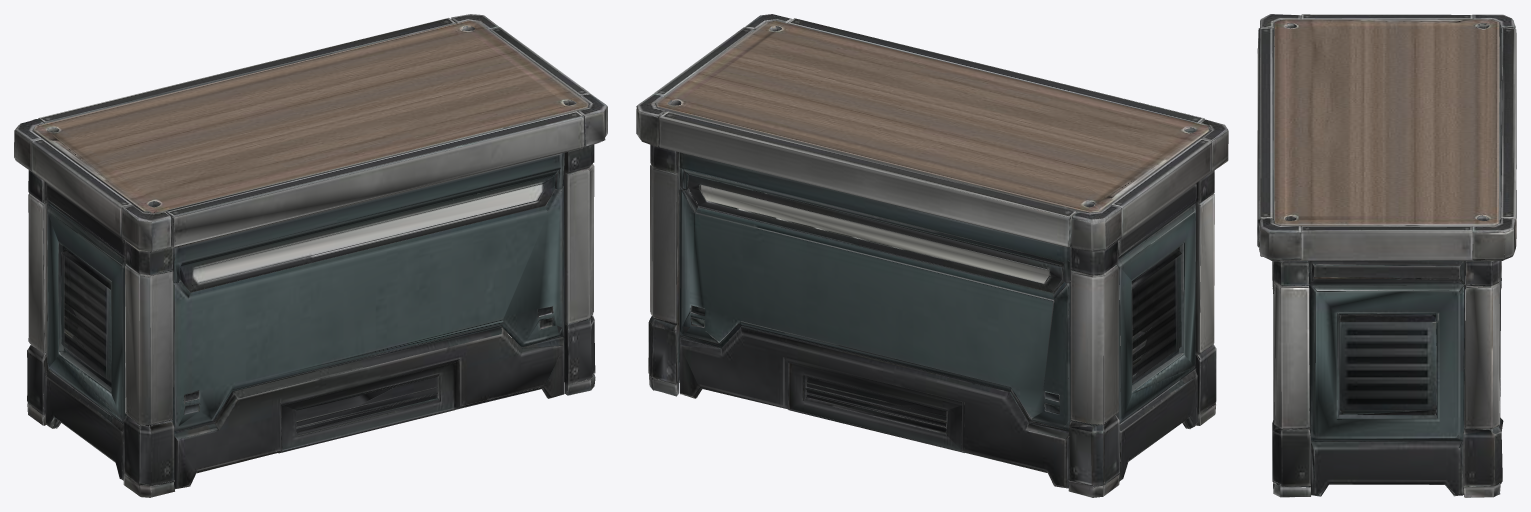
The model's file is shop_table.glb.
3 renders of one model, left to right at view 1: azimuth 30°, elevation 25°; view 2: azimuth 150°, elevation 25°; view 3: azimuth 270°, elevation 25°, orthographic. The views are drawn at different scales.
Visible parts, largest first — view 1: Mesh_0; view 2: Mesh_0; view 3: Mesh_0.
Boxes of the visible parts, <box> form: Mesh_0: <box>14,14,607,497</box>; Mesh_0: <box>636,14,1228,497</box>; Mesh_0: <box>1257,14,1516,497</box>.
Size of the model in its own units: 1.55 by 0.9 by 0.78.
Materials: 1 (1 with a texture image).
